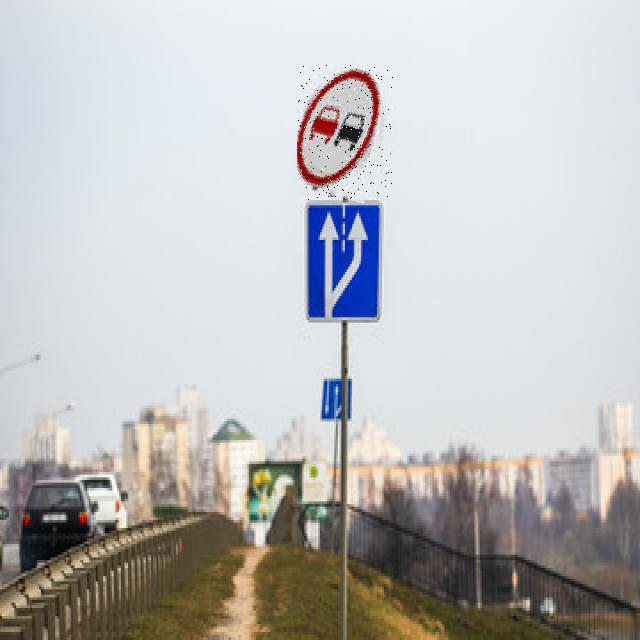no overtaking: (297, 64, 393, 200)
